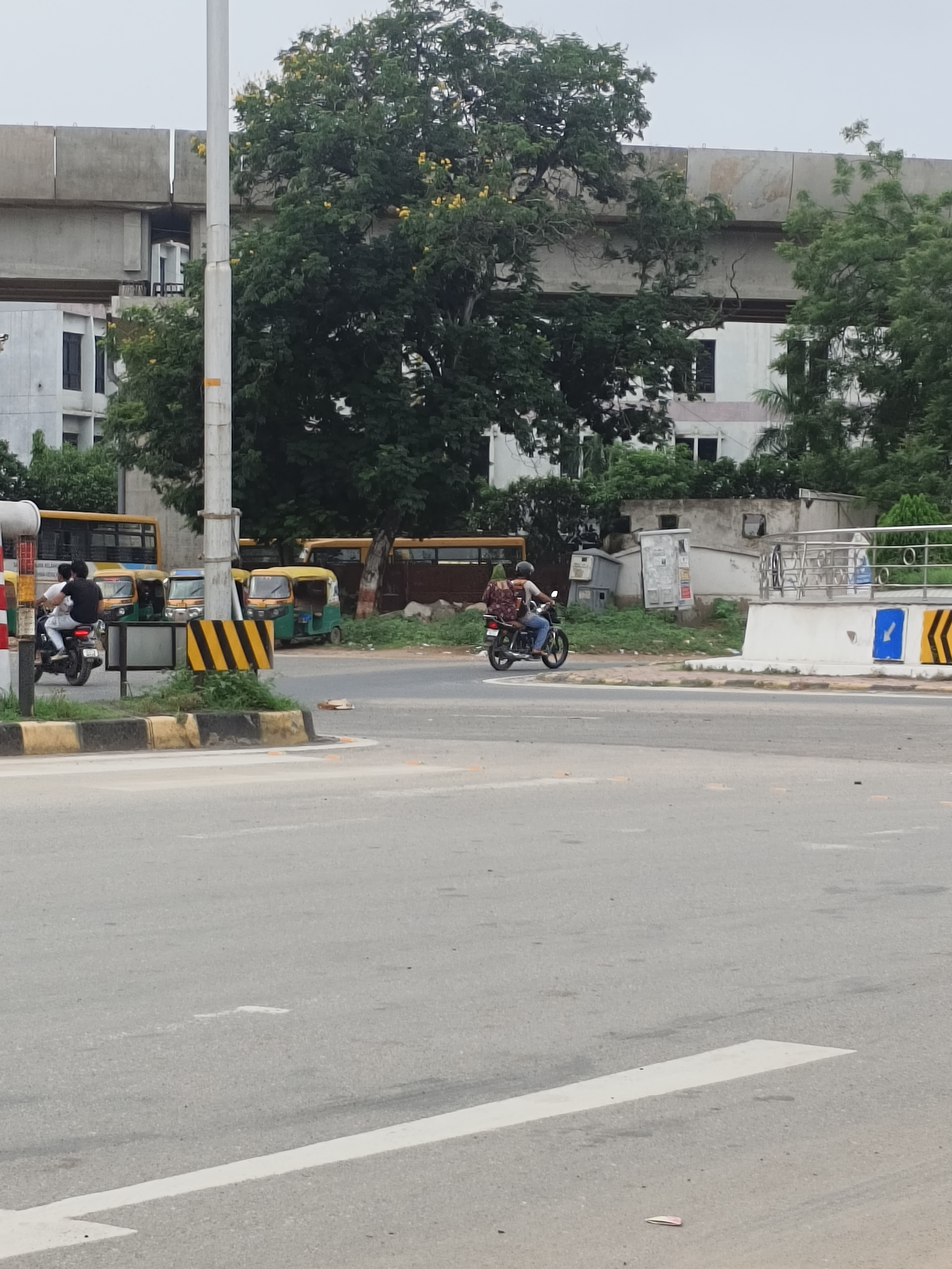BikeWithRider: (472, 555, 579, 676), (26, 555, 110, 690)
Helmet: (493, 560, 516, 583)
NoHelmet: (65, 554, 94, 586), (507, 559, 531, 583), (68, 559, 90, 582), (54, 560, 73, 584), (489, 561, 508, 581)
